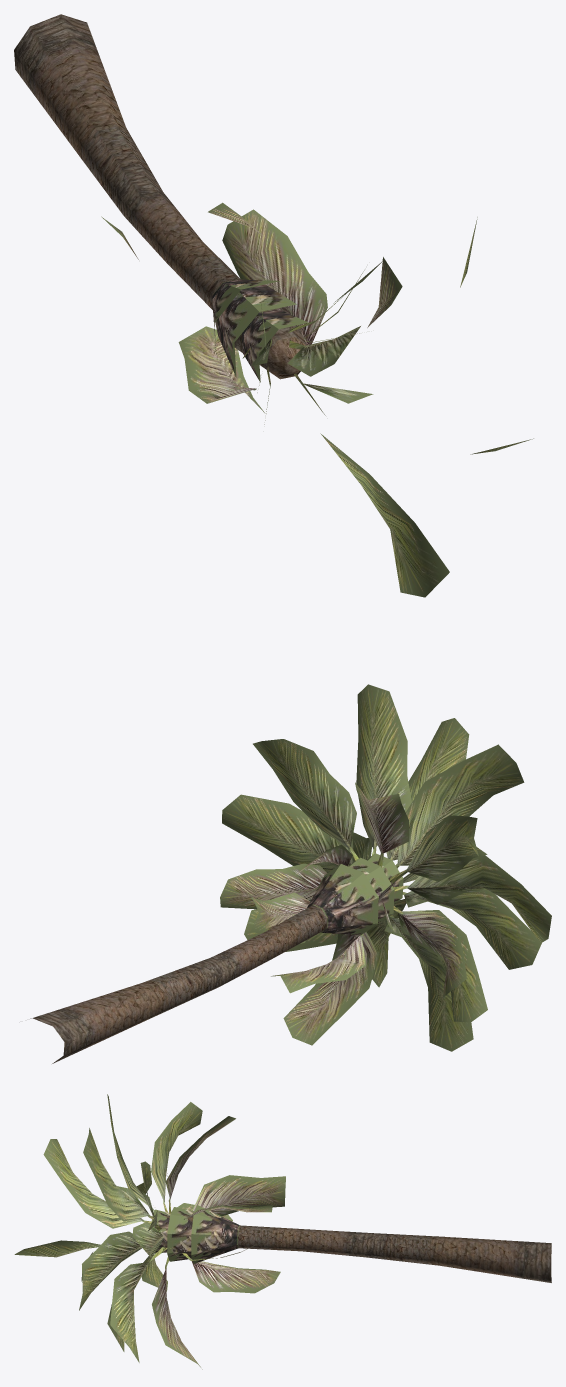
The model's file is tree_desertpalm01.glb.
The picture shows the model from 3 angles, top to bottom: view 1: azimuth 30°, elevation 25°; view 2: azimuth 150°, elevation 25°; view 3: azimuth 270°, elevation 25°; orthographic projection. The views are drawn at different scales.
Size of the model in its own units: 171 by 166 by 318.
2 materials, 2 textured.
